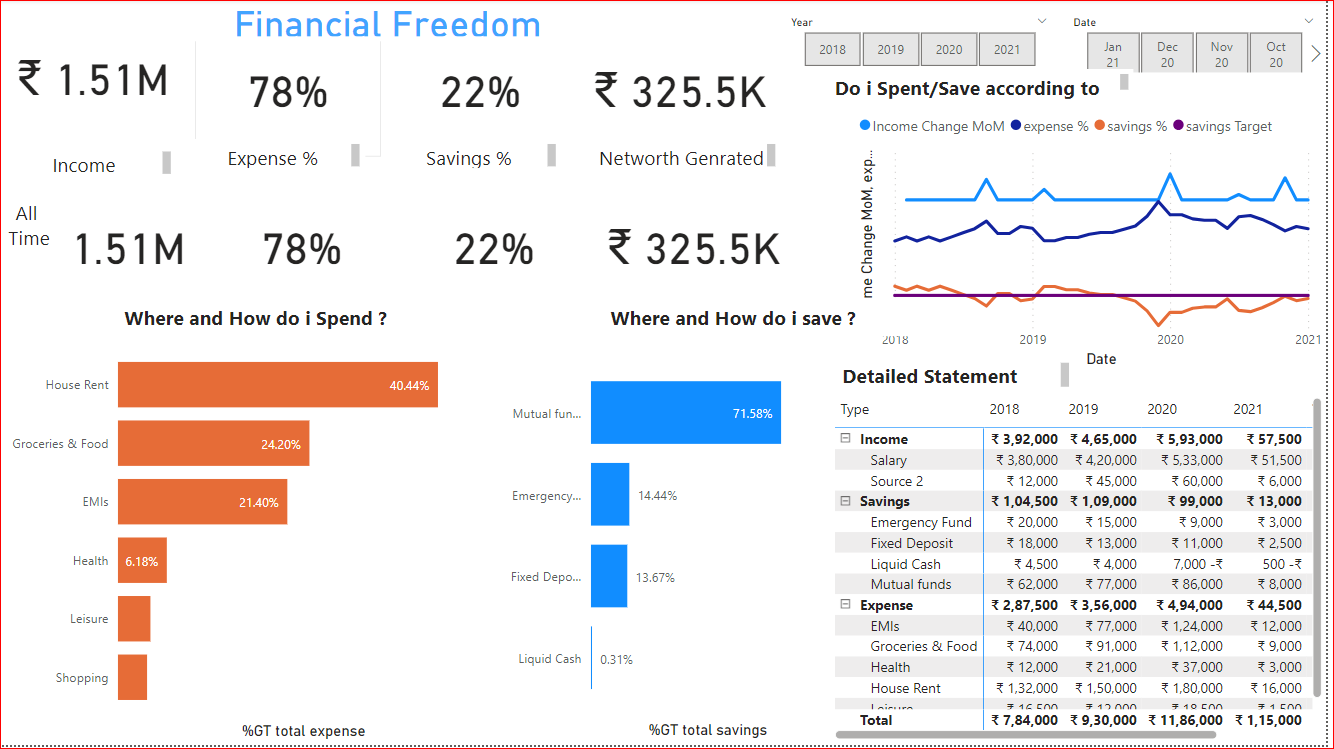

The dashboard page shown, as its layout file describes it:
{"tool":"powerbi","page":{"name":"FinDashBoards","canvas":[1280,720],"ordinal":0},"visuals":[{"type":"card","fields":{"Values":["key measure.total income"]},"box":[0.4,7.7,179.6,133],"z":0},{"type":"card","fields":{"Values":["key measure.expense %"]},"box":[188.1,18.6,179.6,133],"z":1000},{"type":"card","fields":{"Values":["key measure.savings %"]},"box":[373.7,18.6,179.6,133],"z":2000},{"type":"card","fields":{"Values":["key measure.total savings"]},"box":[559.2,18.6,193.3,133],"z":3000},{"type":"textbox","box":[0,142.9,170,32.9],"z":4000},{"type":"textbox","box":[182.2,135.2,170,32.9],"z":5000},{"type":"textbox","box":[570.2,135.2,182.3,32.9],"z":6000},{"type":"textbox","box":[371.4,135.2,170,32.9],"z":7000},{"type":"slicer","fields":{"Values":["FinData.Year"]},"box":[750,11,272.8,60.3],"z":8000},{"type":"slicer","fields":{"Values":["FinData.Date"]},"box":[1022.8,11,257.8,60.3],"z":8001},{"type":"card","fields":{"Values":["key measure.total income"]},"box":[15.9,170.1,179.6,133],"z":8002},{"type":"card","fields":{"Values":["key measure.expense %"]},"box":[201.4,170.1,179.6,133],"z":8003},{"type":"card","fields":{"Values":["key measure.savings %"]},"box":[387,170.1,179.6,133],"z":8004},{"type":"card","fields":{"Values":["key measure.total savings"]},"box":[572.5,170.1,193.3,133],"z":8005},{"type":"textbox","box":[0,187.8,56.2,91.9],"z":8006},{"type":"card","fields":{"Values":["key measure.Title"]},"box":[153.6,0,442.8,41.1],"z":8007},{"type":"clusteredBarChart","fields":{"Category":["FinData.Component"],"Y":["key measure.total expense"]},"box":[0,315.3,477.1,404.5],"z":8008},{"type":"textbox","box":[16.5,279.7,440.1,35.6],"z":8009},{"type":"clusteredBarChart","fields":{"Category":["FinData.Component"],"Y":["key measure.total savings"]},"box":[476.7,324.5,324.5,394.5],"z":8010},{"type":"textbox","box":[477.1,279.7,440.1,35.6],"z":8011},{"type":"lineChart","fields":{"Y":["key measure.Income Change MoM","key measure.expense %","key measure.savings %","key measure.savings Target"],"Category":["FinData.Date"]},"box":[824,101.5,456.6,259.1],"z":8012},{"type":"pivotTable","fields":{"Rows":["Type.Type","FinData.Component"],"Columns":["FinData.Year","FinData.Date"],"Values":["Sum(FinData.Value)"]},"box":[801.2,379.7,479.4,339.3],"z":8013},{"type":"textbox","box":[26.5,289.7,440.1,35.6],"z":8014},{"type":"textbox","box":[487.1,289.7,440.1,35.6],"z":8015},{"type":"textbox","box":[786.4,67.3,307,33.7],"z":8016},{"type":"textbox","box":[766.2,346.1,270.7,33.7],"z":8017}]}

Visuals, with their boxes in screenshot pixels (x1, y1, x2, y2), scaled from the page's 1280x720 canvas onto the 1334x749 screenshot:
card - key measure.total income: locate(0, 8, 188, 146)
card - key measure.expense %: locate(196, 19, 383, 158)
card - key measure.savings %: locate(389, 19, 577, 158)
card - key measure.total savings: locate(583, 19, 784, 158)
textbox: locate(0, 149, 177, 183)
textbox: locate(190, 141, 367, 175)
textbox: locate(594, 141, 784, 175)
textbox: locate(387, 141, 564, 175)
slicer - FinData.Year: locate(782, 11, 1066, 74)
slicer - FinData.Date: locate(1066, 11, 1333, 74)
card - key measure.total income: locate(17, 177, 204, 315)
card - key measure.expense %: locate(210, 177, 397, 315)
card - key measure.savings %: locate(403, 177, 591, 315)
card - key measure.total savings: locate(597, 177, 798, 315)
textbox: locate(0, 195, 59, 291)
card - key measure.Title: locate(160, 0, 622, 43)
clusteredBarChart - FinData.Component x key measure.total expense: locate(0, 328, 497, 748)
textbox: locate(17, 291, 476, 328)
clusteredBarChart - FinData.Component x key measure.total savings: locate(497, 338, 835, 748)
textbox: locate(497, 291, 956, 328)
lineChart - key measure.Income Change MoM x key measure.expense %: locate(859, 106, 1333, 375)
pivotTable - Type.Type x FinData.Component: locate(835, 395, 1333, 748)
textbox: locate(28, 301, 486, 338)
textbox: locate(508, 301, 966, 338)
textbox: locate(820, 70, 1140, 105)
textbox: locate(799, 360, 1081, 395)
